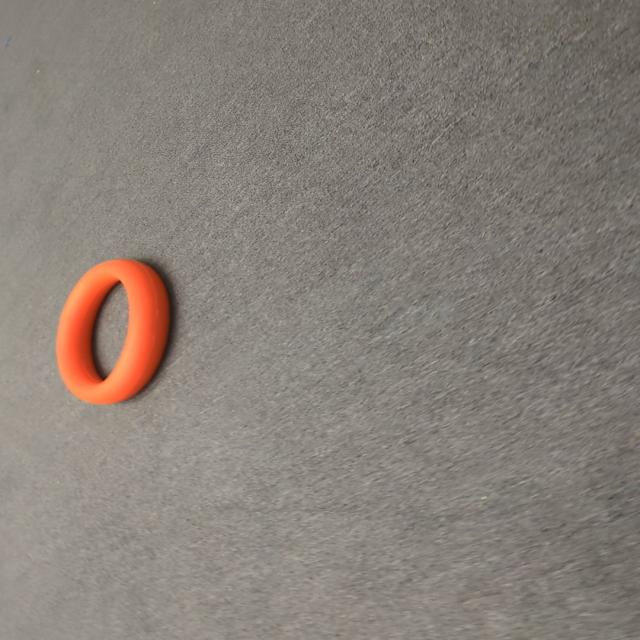note: (54, 260, 168, 404)
